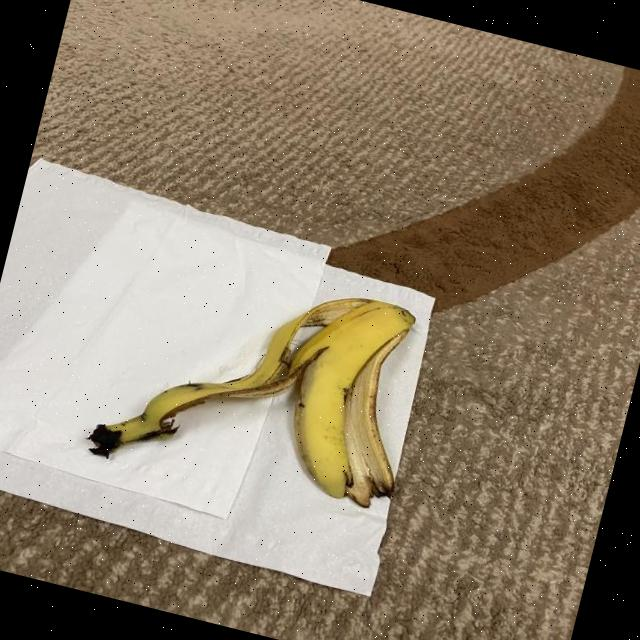banana-peel: (81, 237, 437, 528)
